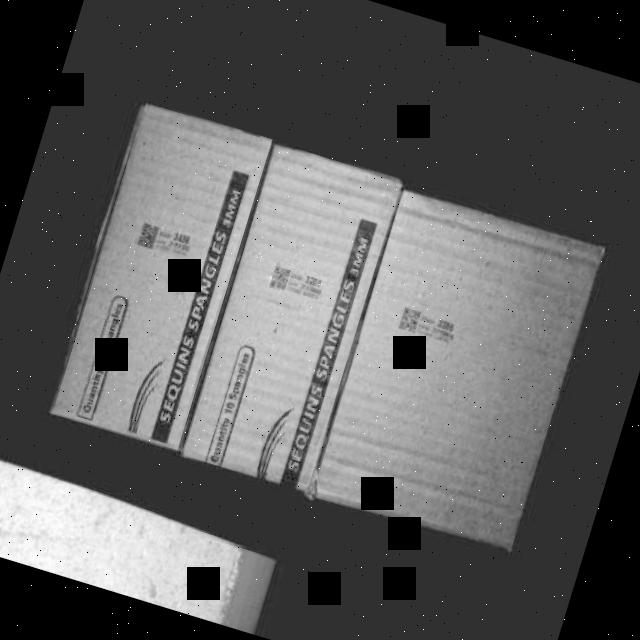box: (318, 192, 602, 550), (185, 145, 406, 500), (56, 110, 266, 447)
